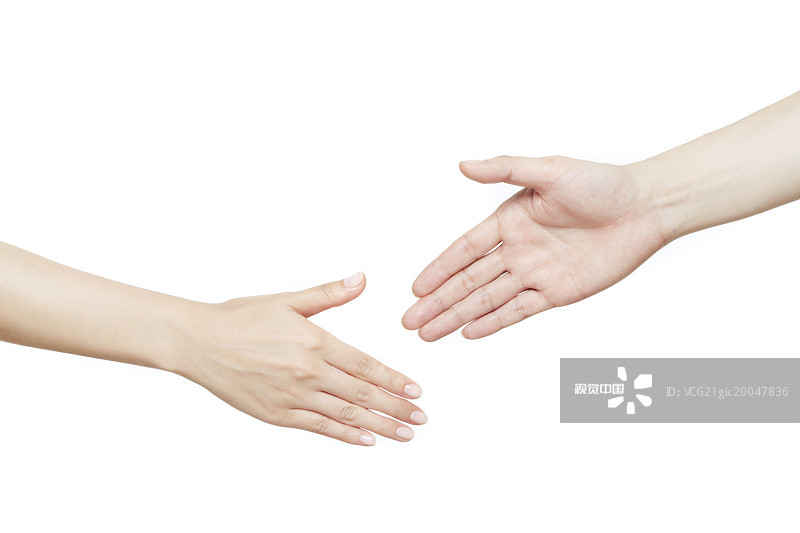no-phone: (398, 142, 727, 357), (148, 266, 433, 470)
